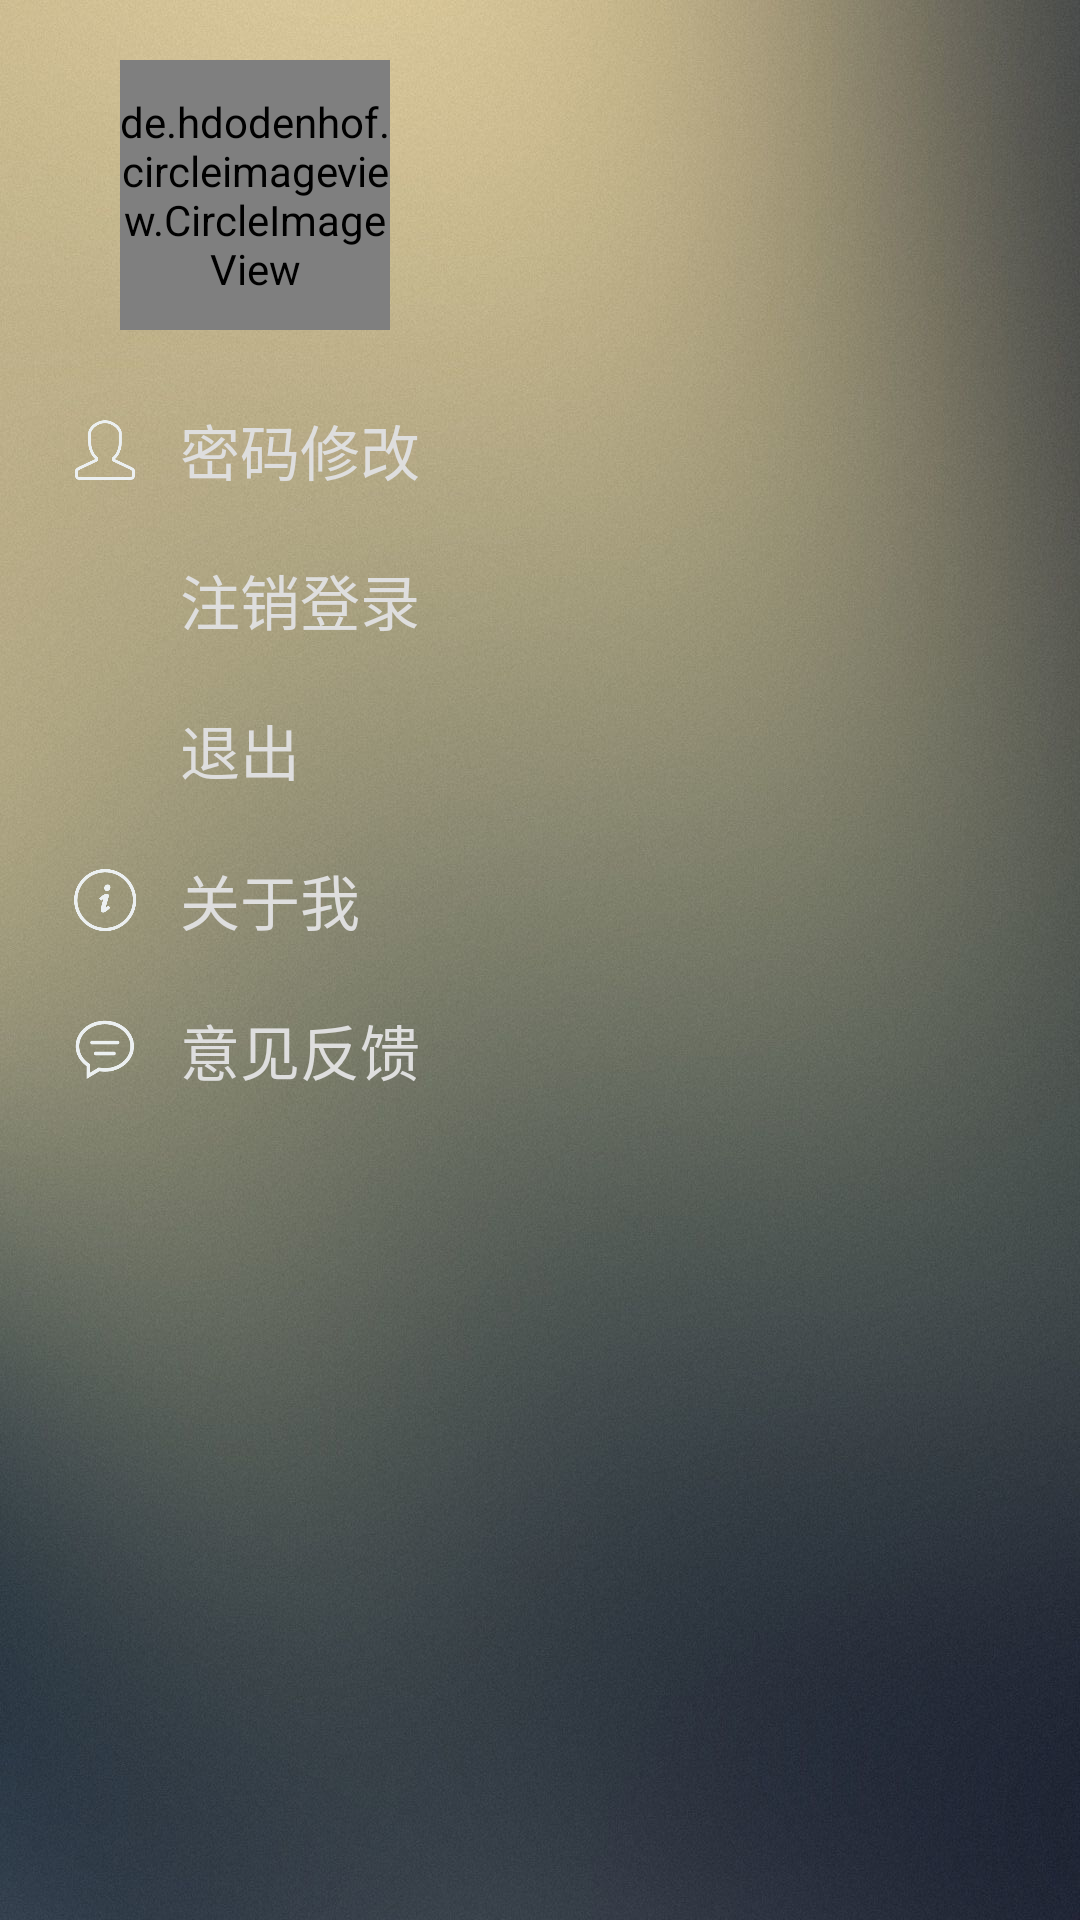

Icon click points for this 1080 × 1920 phone screenshot, format (x=x, y=y):
about: (x=105, y=900)
feedback: (x=104, y=1049)
person: (x=105, y=450)
